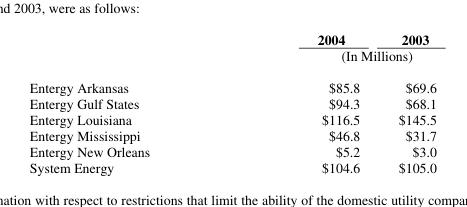table: (28, 29, 435, 176)
table column: (28, 29, 232, 176), (232, 29, 378, 176), (378, 29, 435, 176)
table column header: (28, 29, 435, 70)
table row: (28, 70, 435, 94), (28, 47, 435, 70), (28, 29, 435, 47), (28, 158, 435, 176), (28, 94, 435, 110), (28, 110, 435, 126), (28, 126, 435, 142), (28, 142, 435, 158)
table spanning cell: (232, 47, 435, 70)
